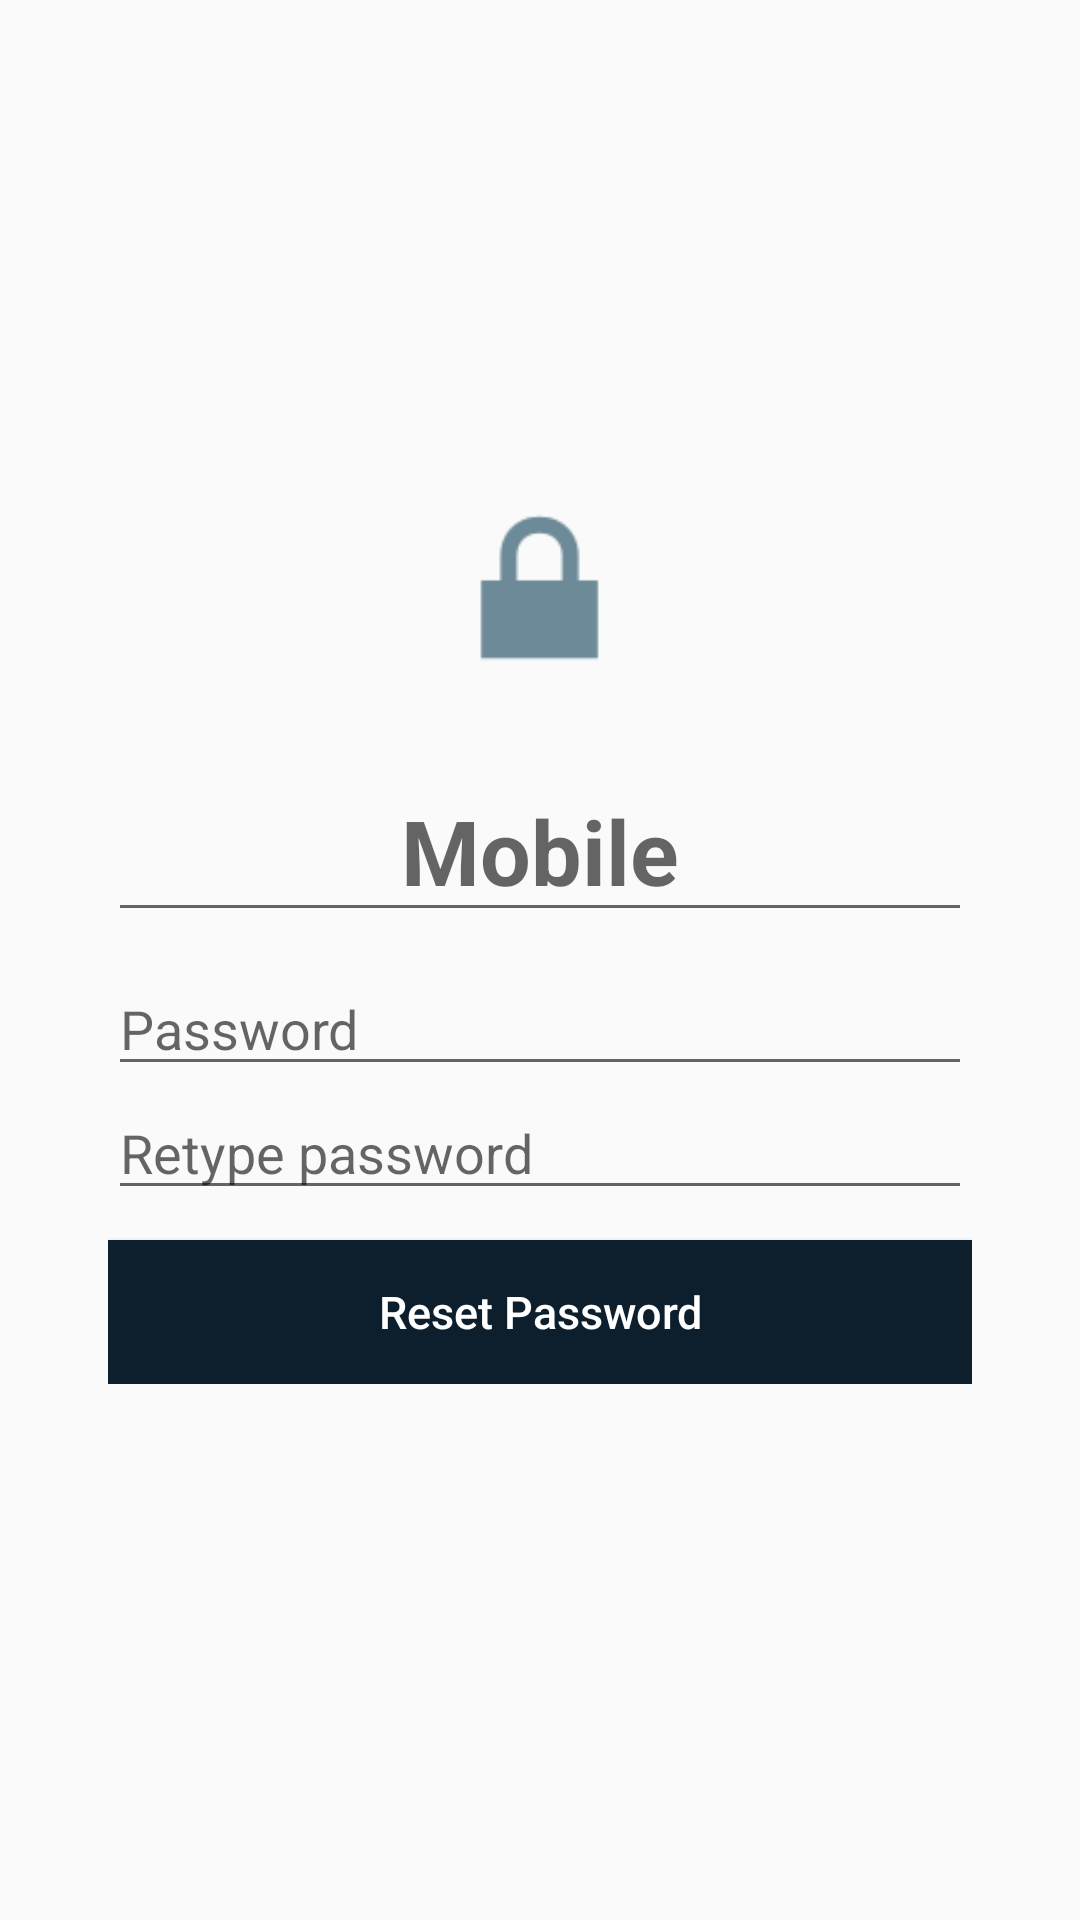

Icons on this 1080×1920 Android screen, each with its box as (x1, y1, x2, y2):
lock: (480, 516, 599, 659)
